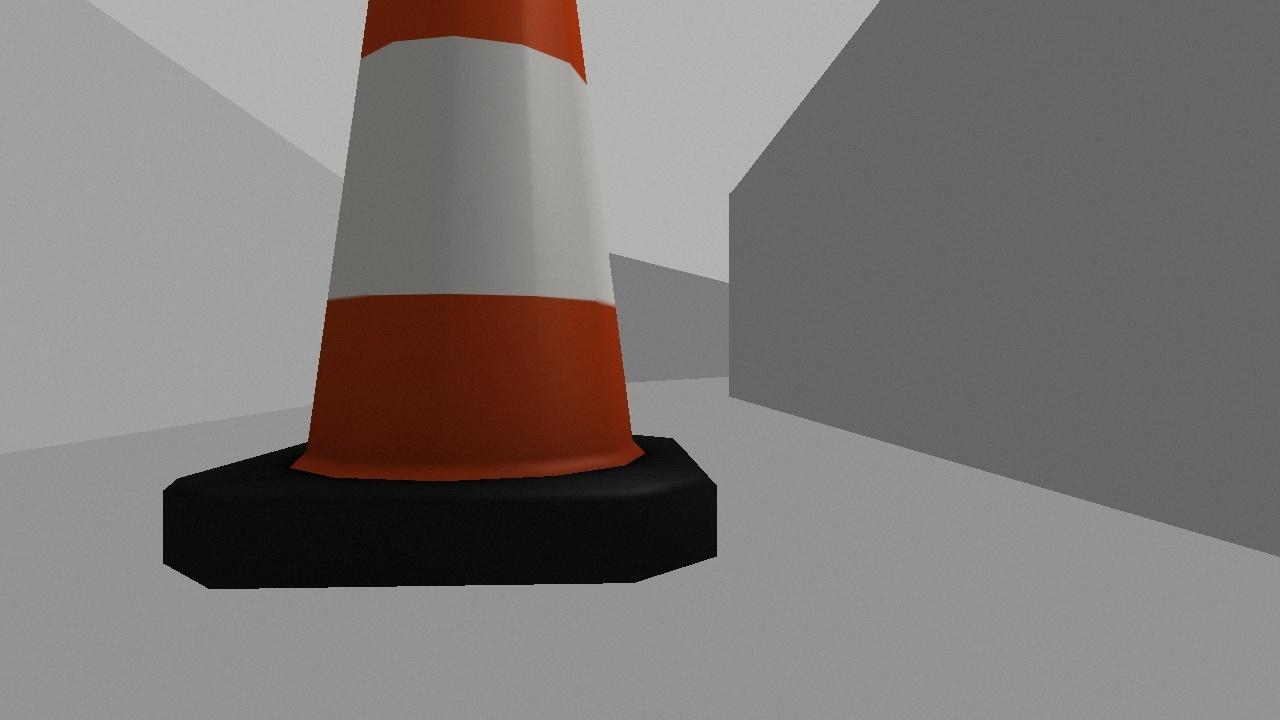cone_barrel: (138, 0, 736, 605)
